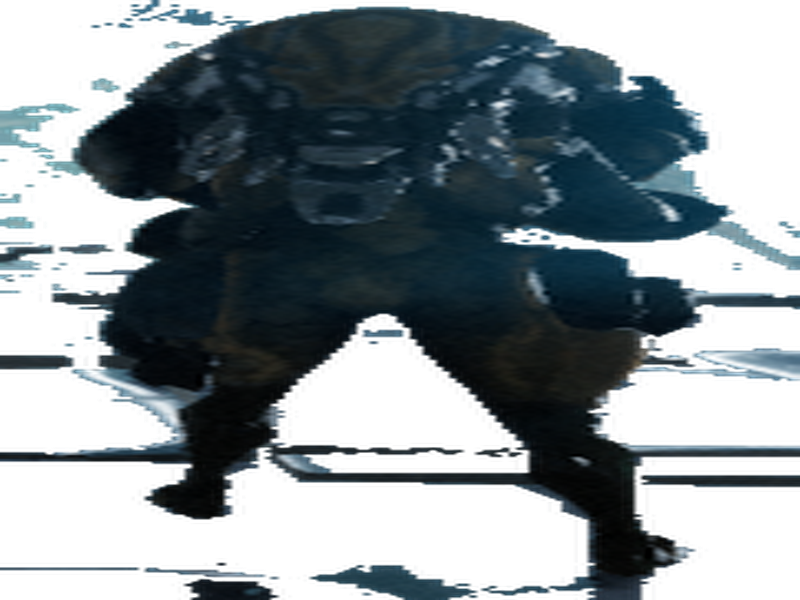grineer: (65, 13, 740, 590)
